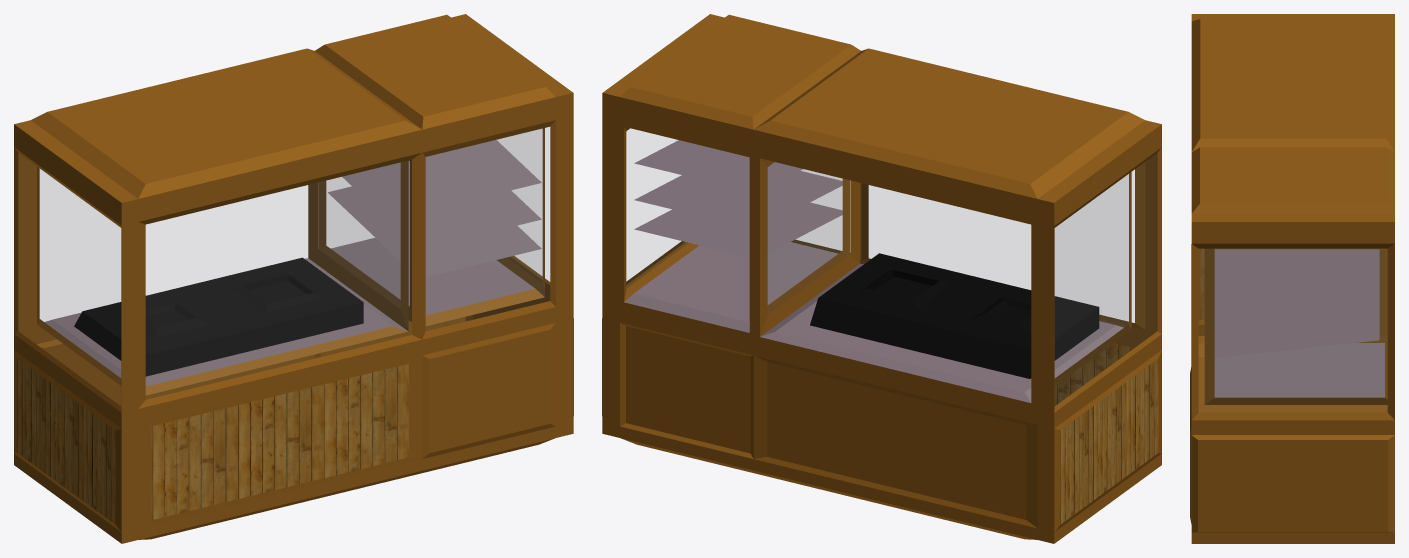
Rendered from balandongan.obj.
3 views of the same model, side by side, from view 1: azimuth 30°, elevation 25°; view 2: azimuth 150°, elevation 25°; view 3: azimuth 270°, elevation 25° (orthographic). The views are drawn at different scales.
Parts seen in each view (by area): view 1: balandongan_Cube, Cube.001; view 2: balandongan_Cube, Cube.001; view 3: balandongan_Cube.
Boxes of the visible parts, x1,y1,x2,y2 form: balandongan_Cube: [14, 14, 573, 543]; Cube.001: [74, 257, 363, 376]; balandongan_Cube: [602, 14, 1161, 543]; Cube.001: [810, 253, 1099, 378]; balandongan_Cube: [1190, 14, 1394, 543].
Size of what is drawn, in the model's own units: 5.43 by 4.04 by 2.23.
4 materials, 2 textured.
